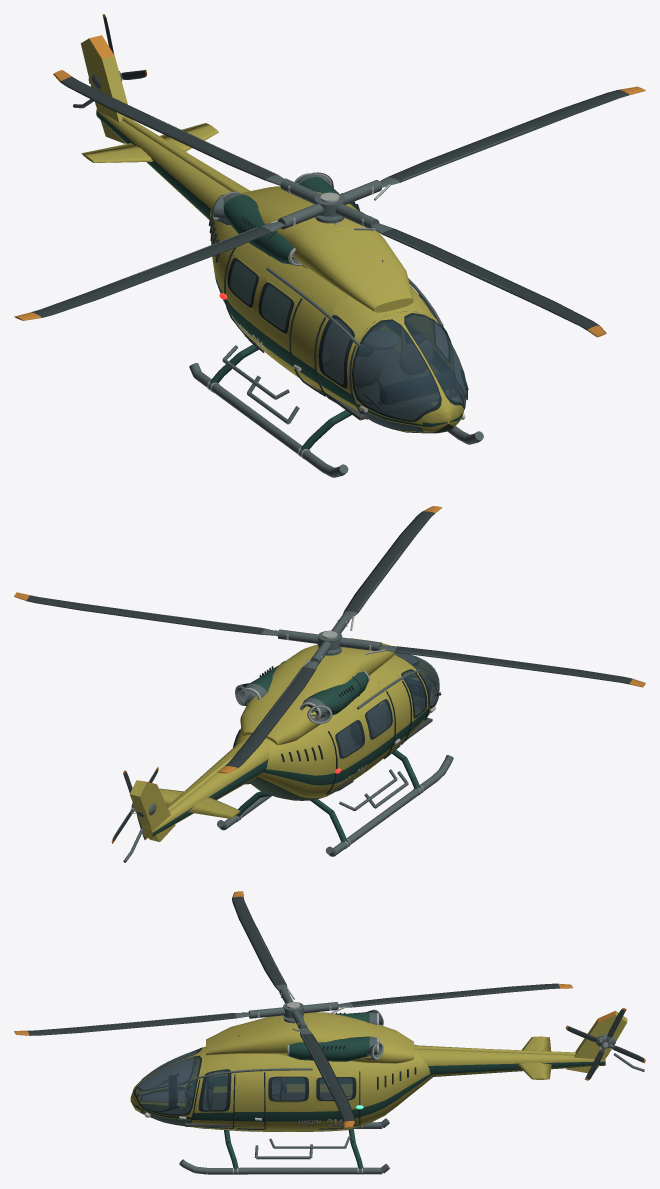
The model's file is MARU.glb.
3 views of the same model, one above another, from view 1: azimuth 30°, elevation 25°; view 2: azimuth 150°, elevation 25°; view 3: azimuth 270°, elevation 25° (orthographic). The views are drawn at different scales.
Visible parts, largest first — view 1: Airframe, MainRotor; view 2: Airframe, MainRotor; view 3: Airframe, MainRotor, TailRotor.
Part boxes in pixels (x1=…): Airframe: x1=73, y1=35, x2=483, y2=477; MainRotor: x1=14, y1=70, x2=645, y2=337; Airframe: x1=123, y1=638, x2=453, y2=862; MainRotor: x1=14, y1=506, x2=645, y2=773; Airframe: x1=130, y1=1009, x2=644, y2=1174; MainRotor: x1=14, y1=891, x2=572, y2=1127; TailRotor: x1=565, y1=1008, x2=645, y2=1080.
Size of the model in its own units: 13.01 by 3.82 by 14.7.
16 materials, 1 textured.
